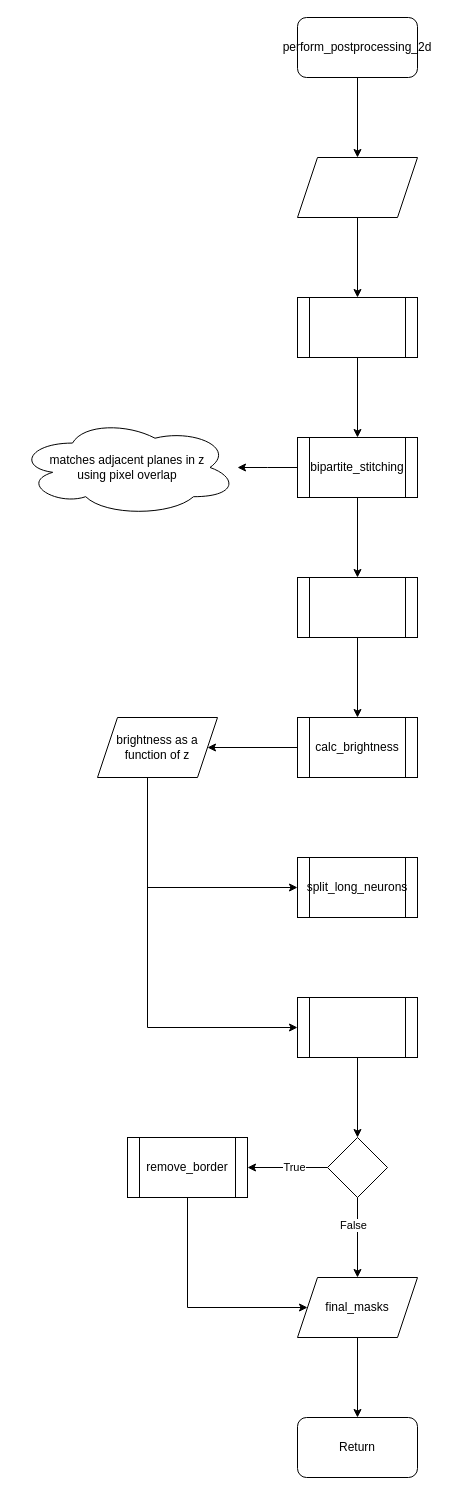
The diagram is 449 pixels wide and 1495 high, and some of its shapes have lost their labels. The centre of each missing label's shape, as x and y in pixels:
get_neuron_lengths_dict: point 357,607
if remove_border_flag: point 357,1167
Masks: point 357,187
remove_large_areas: point 357,327
remove_short_neurons: point 357,1027
